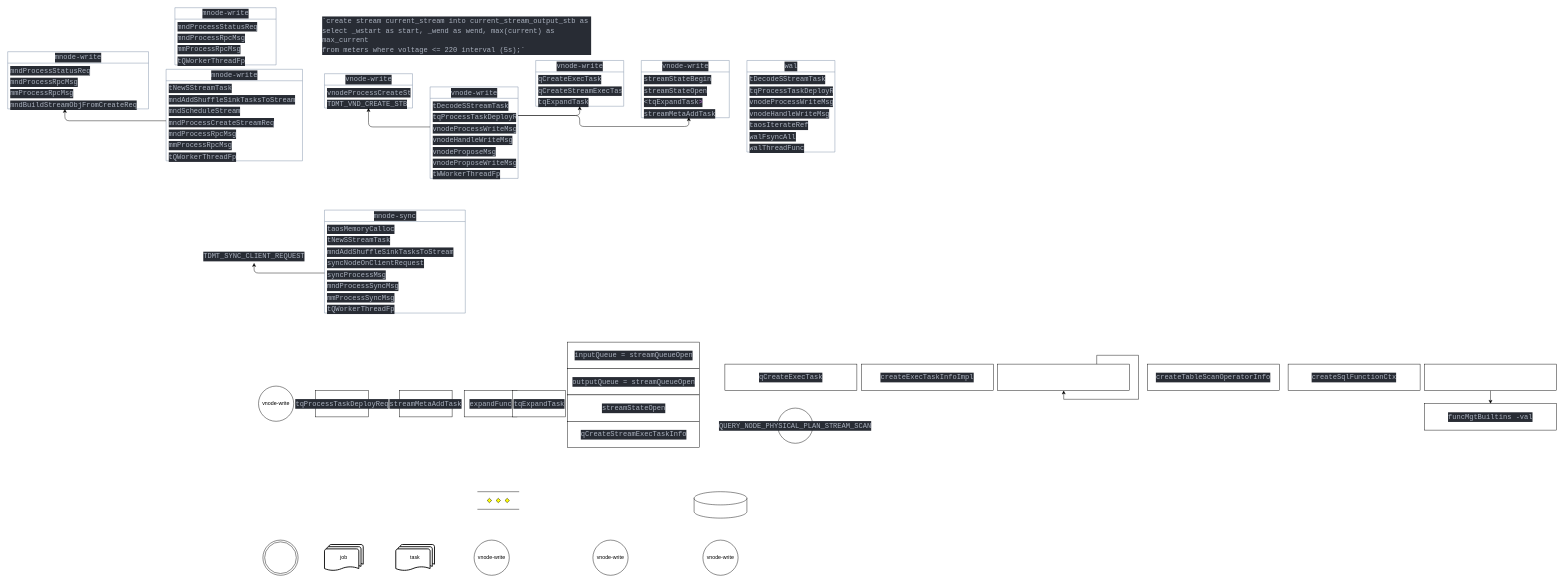
This 1564x583 diagram has some shape labels left out. Here are the shapes that lost their labels. From the top down, the centre of each, then its label:
pixel 1063 377: createOperatorTree
pixel 1490 377: fmGetFuncExecFuncs
pixel 720 504: distance db
pixel 280 557: Sql
